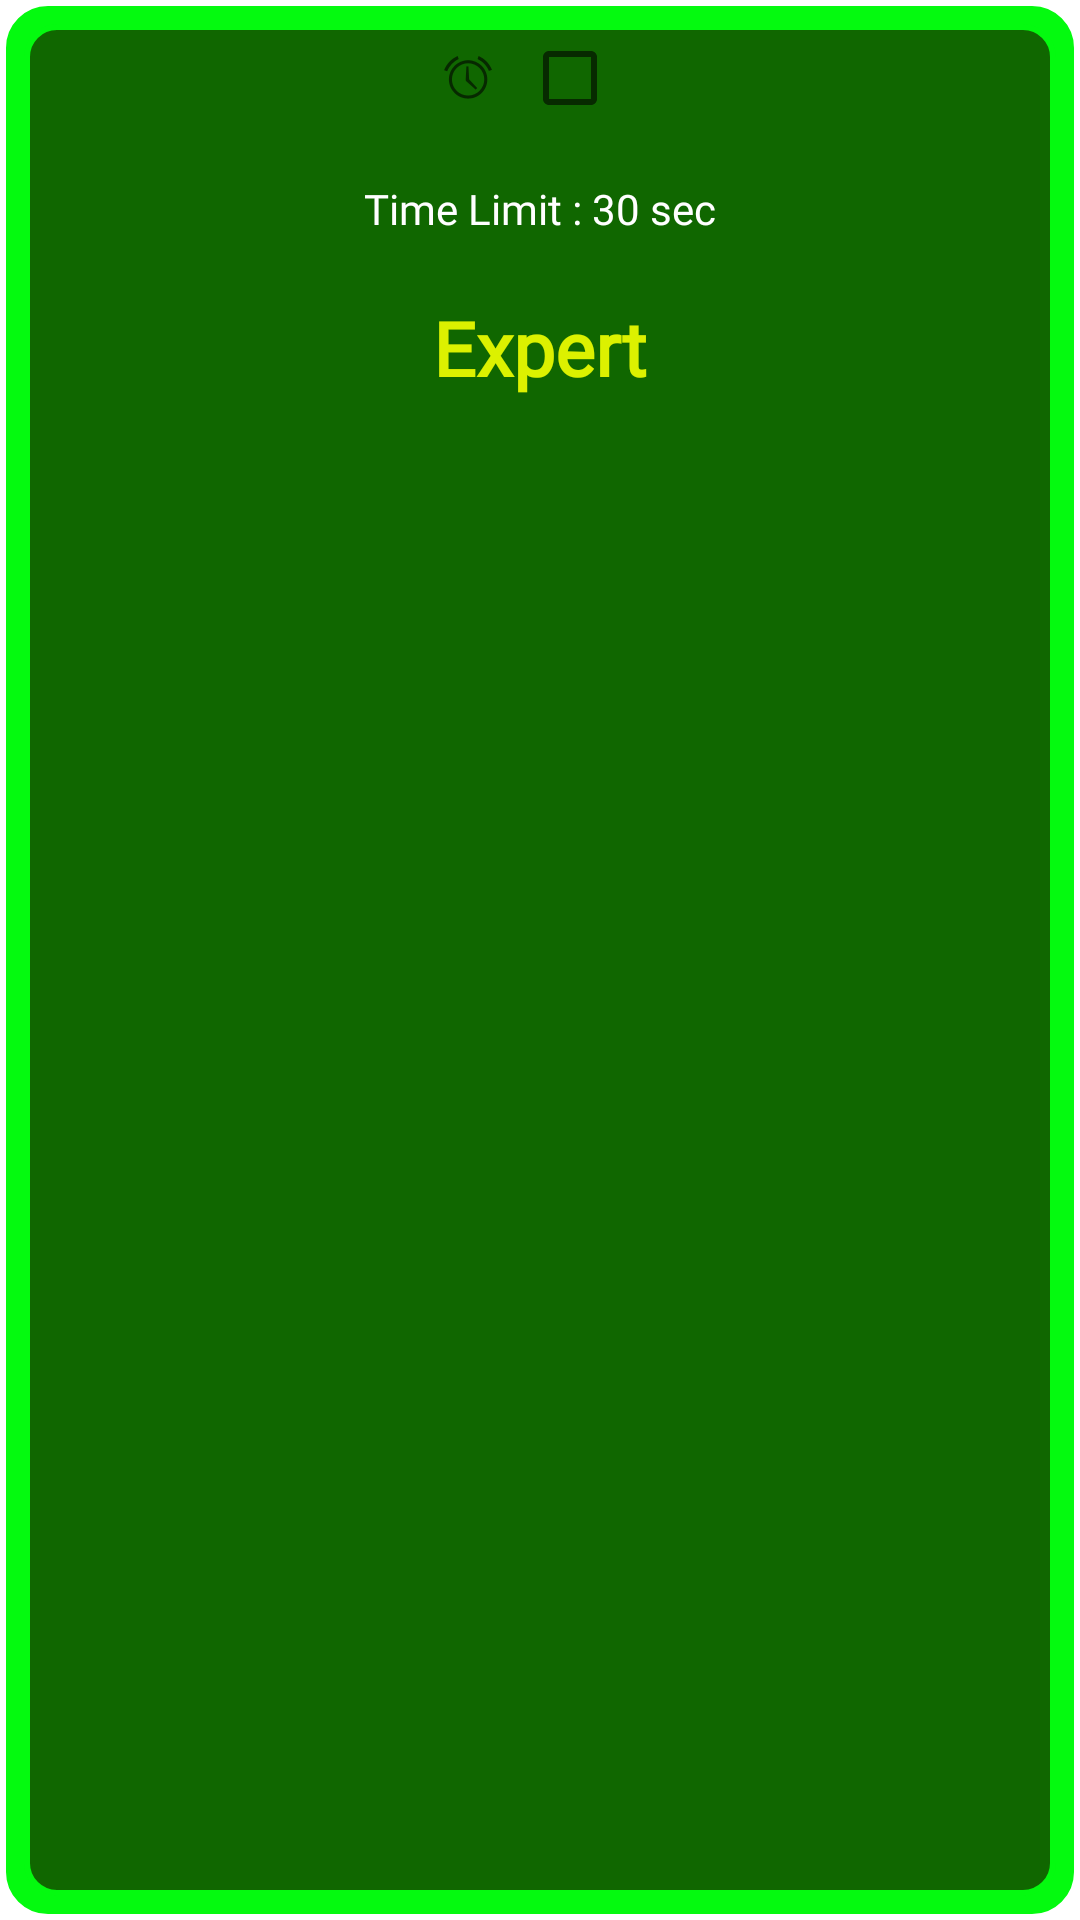

Named icons in this screenshot (1080 × 1920) and their bounding boxes, (x1, y1, x2, y2):
lock idle alarm: (444, 56, 492, 99)
